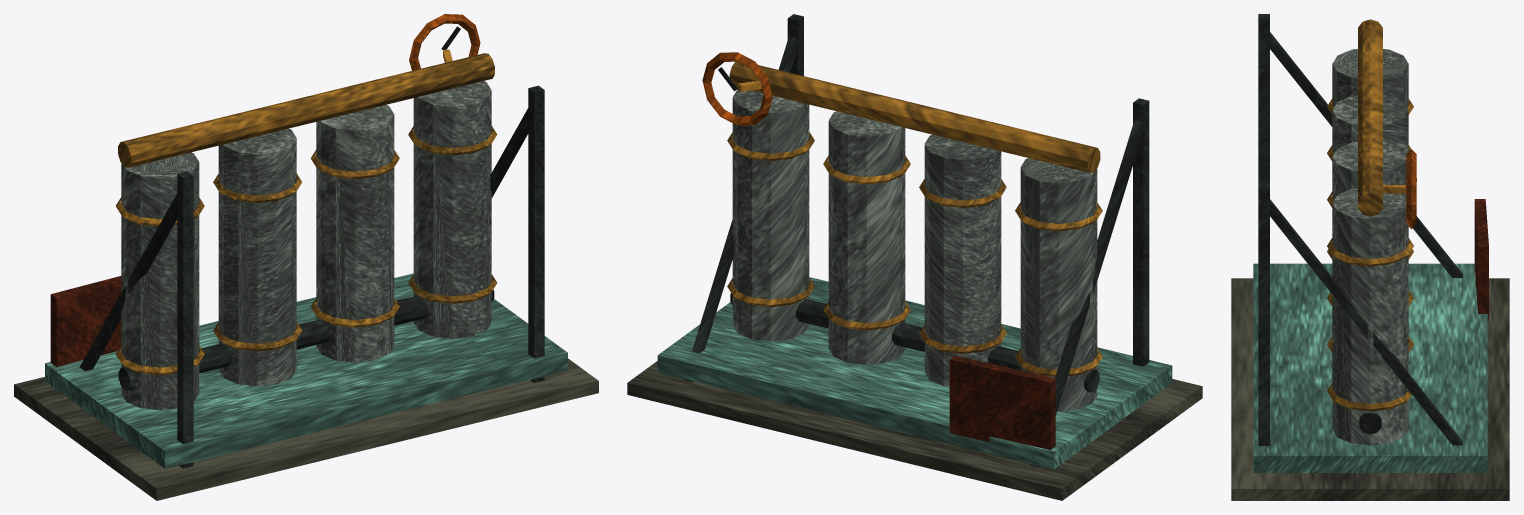
Rendered from isotope-cooling-rack.glb.
3 renders of one model, left to right at view 1: azimuth 30°, elevation 25°; view 2: azimuth 150°, elevation 25°; view 3: azimuth 270°, elevation 25°, orthographic. The views are drawn at different scales.
Parts seen in each view (by area): view 1: isotope-cooling-rack; view 2: isotope-cooling-rack; view 3: isotope-cooling-rack.
Part boxes in pixels (x1,y1,x2,y2): isotope-cooling-rack: [14, 14, 598, 500]; isotope-cooling-rack: [627, 14, 1202, 500]; isotope-cooling-rack: [1231, 14, 1509, 500].
Bounding box in the file's own units: 6.8 × 4.8 × 3.8.
1 material, 1 textured.
